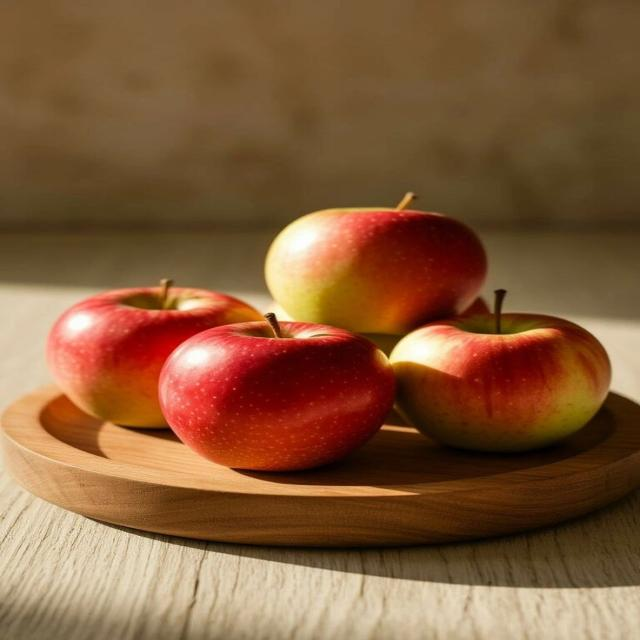apple: (160, 315, 394, 471), (391, 304, 611, 451), (47, 282, 261, 427), (266, 198, 486, 334), (362, 334, 402, 356)
